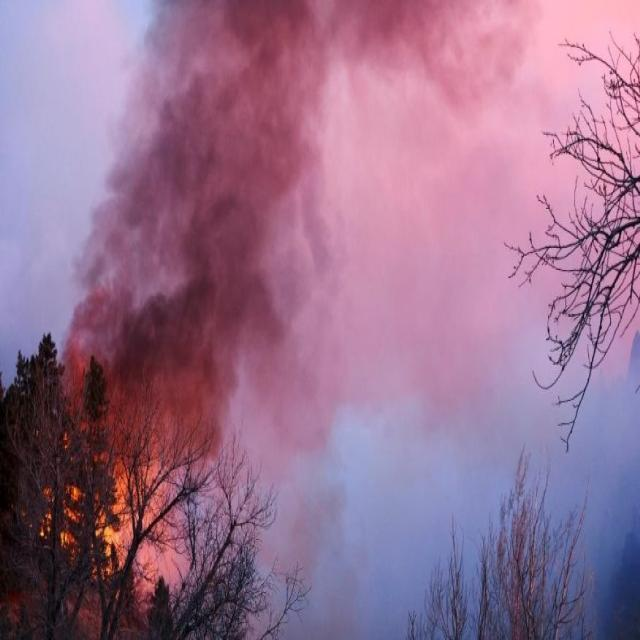Fire: (44, 451, 130, 569)
Smoke: (76, 4, 640, 429)
